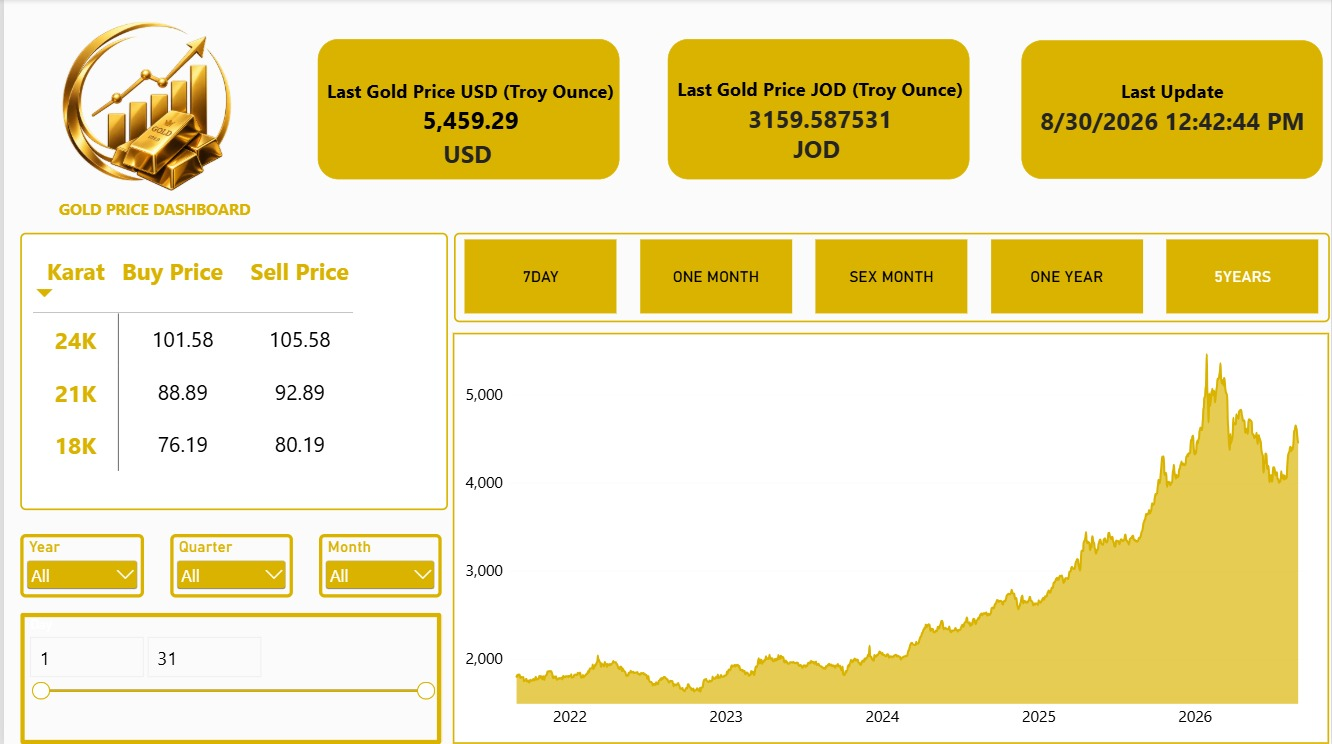

Layout of this report page (visuals, bound fields, positions):
{"tool":"powerbi","page":{"name":"Page 1","canvas":[1920,1080],"ordinal":0},"visuals":[{"type":"shape","box":[454.5,58.4,437.2,203.4],"z":0,"group":"g3"},{"type":"shape","box":[959.9,58.4,437.2,203.4],"z":0,"group":"g1"},{"type":"shape","box":[1473.8,60.6,436.1,200.9],"z":0,"group":"g2"},{"type":"lineChart","fields":{"Category":["Gold Price Data.DateTime"],"Y":["Measures (3).5 YEARS"]},"box":[649.7,483.2,1268.6,595.4],"z":0},{"type":"cardVisual","fields":{"Data":["Gold Price Data.Last Update"]},"box":[1484.6,58.4,415.5,199.1],"z":1000,"group":"g2"},{"type":"cardVisual","fields":{"Data":["Gold Price Data.Latest Gold Price"]},"box":[947.9,58.5,467.5,194.8],"z":1000,"group":"g1"},{"type":"cardVisual","fields":{"Data":["Gold Price Data.Last Gold Price USA"]},"box":[450.1,59.8,450.1,194.8],"z":1000,"group":"g3"},{"type":"slicer","fields":{"Values":["Gold Price Data.Year"]},"box":[23.5,774.5,179.2,92.3],"z":1000},{"type":"cardVisual","fields":{"Data":["Min(Gold Price Data.Quote)"]},"box":[1042.4,118,268.4,196],"z":2000,"group":"g1"},{"type":"cardVisual","fields":{"Data":["Min(Gold Price Data.Currency)"]},"box":[532.3,124.8,278.7,195.4],"z":2000,"group":"g3"},{"type":"slicer","fields":{"Values":["Gold Price Data.Month"]},"box":[456,774.5,177.3,92.3],"z":2000},{"type":"slicer","fields":{"Values":["Gold Price Data.Quarter"]},"box":[240.7,774.5,177.3,92.3],"z":3000},{"type":"pivotTable","fields":{"Rows":["Karat.Karat"],"Values":["Gold Price Data.Buy Price","Gold Price Data.Sell Price"]},"box":[23.5,338.4,618.9,401.7],"z":4000},{"type":"group","id":"g1","title":"Group 1","box":[947.9,58.4,467.5,255.4],"z":5000},{"type":"group","id":"g2","title":"Group 2","box":[1473.8,58.4,437.2,203.4],"z":6000},{"type":"group","id":"g3","title":"Group 3","box":[450.1,58.4,450.1,261.9],"z":7000},{"type":"advancedSlicerVisual","fields":{"Values":["Parameter.Parameter"]},"box":[651.5,338.4,1268.2,129.8],"z":7001},{"type":"slicer","fields":{"Values":["Gold Price Data.Day"]},"box":[23.5,888.5,609.9,190],"z":7002},{"type":"image","box":[39,28.1,333,253.4],"z":7003},{"type":"shape","box":[6.5,264,421.7,77.8],"z":7004}]}

Visuals, with their boxes in screenshot pixels (x1, y1, x2, y2), scaled from the page's 1920x1080 canvas onto the 1332x744 screenshot:
shape: [315,40,619,180]
shape: [666,40,969,180]
shape: [1022,42,1325,180]
lineChart - Gold Price Data.DateTime x Measures (3).5 YEARS: [451,333,1331,743]
cardVisual - Gold Price Data.Last Update: [1030,40,1318,177]
cardVisual - Gold Price Data.Latest Gold Price: [658,40,982,174]
cardVisual - Gold Price Data.Last Gold Price USA: [312,41,625,175]
slicer - Gold Price Data.Year: [16,534,141,597]
cardVisual - Min(Gold Price Data.Quote): [723,81,909,216]
cardVisual - Min(Gold Price Data.Currency): [369,86,563,221]
slicer - Gold Price Data.Month: [316,534,439,597]
slicer - Gold Price Data.Quarter: [167,534,290,597]
pivotTable - Karat.Karat x Gold Price Data.Buy Price: [16,233,446,510]
"Group 1" group: [658,40,982,216]
"Group 2" group: [1022,40,1326,180]
"Group 3" group: [312,40,625,221]
advancedSlicerVisual - Parameter.Parameter: [452,233,1331,323]
slicer - Gold Price Data.Day: [16,612,439,743]
image: [27,19,258,194]
shape: [5,182,297,235]
